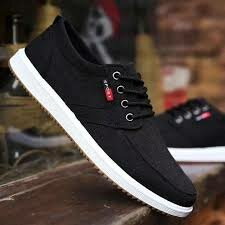Sneakers: (6, 14, 200, 220)
